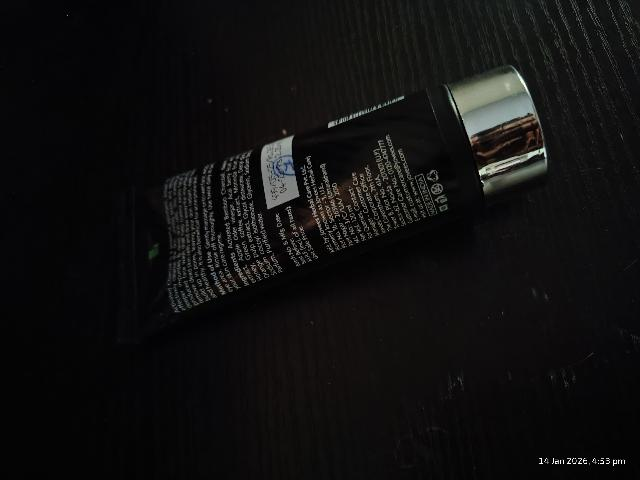jovees herbal: (106, 62, 557, 334)
